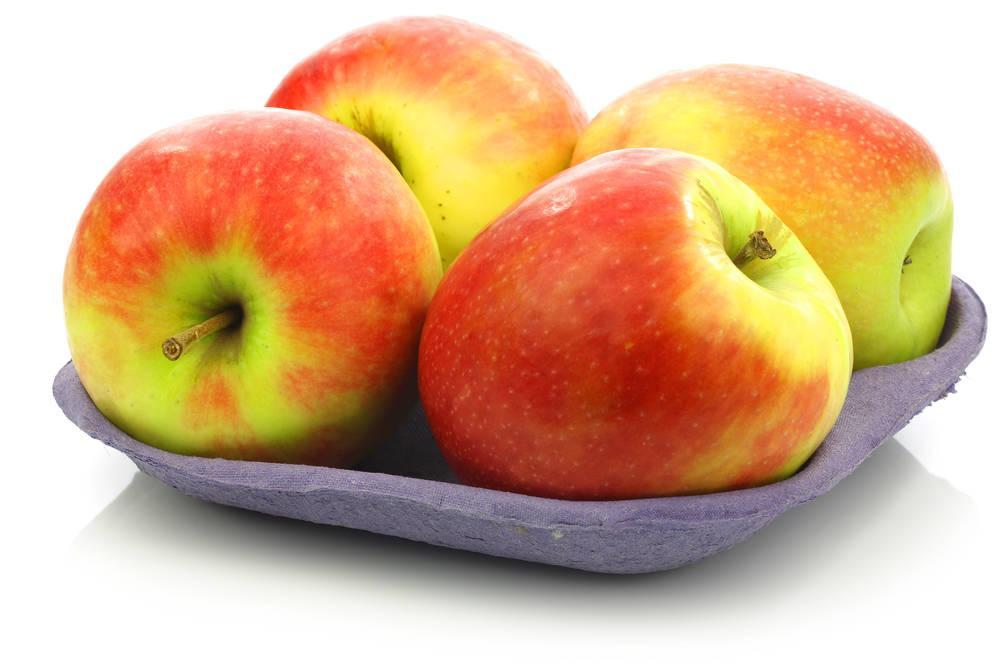apple: (419, 137, 853, 495), (63, 106, 450, 467), (580, 67, 951, 370), (264, 13, 585, 263)
